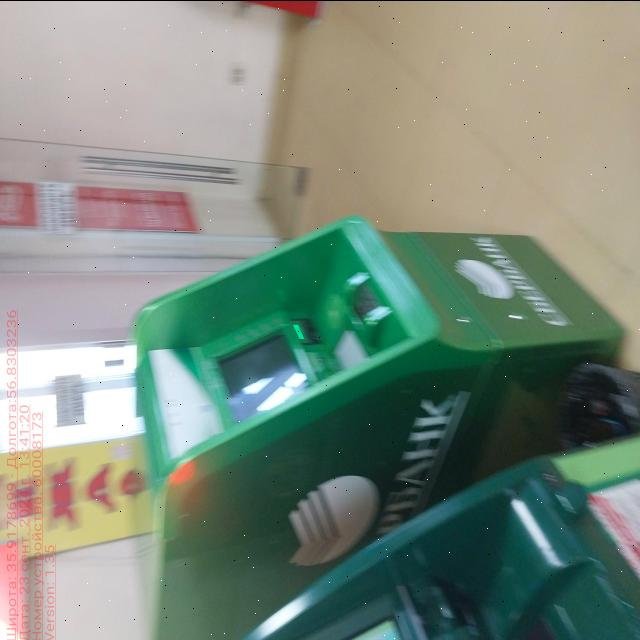bank: (121, 217, 624, 640)
